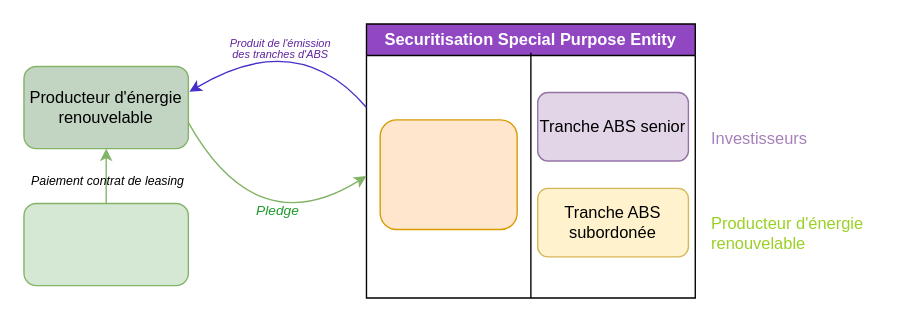
Some shapes in this 911 by 323 pixel diagram are drawn without their labels. The box of each missing label's shape, as (x1, y1, x2, y2) in pixels:
Clients équipés de panneaux photovoltaïques: (23, 202, 188, 286)
Contrats de leasing pledgés: (379, 119, 517, 229)
